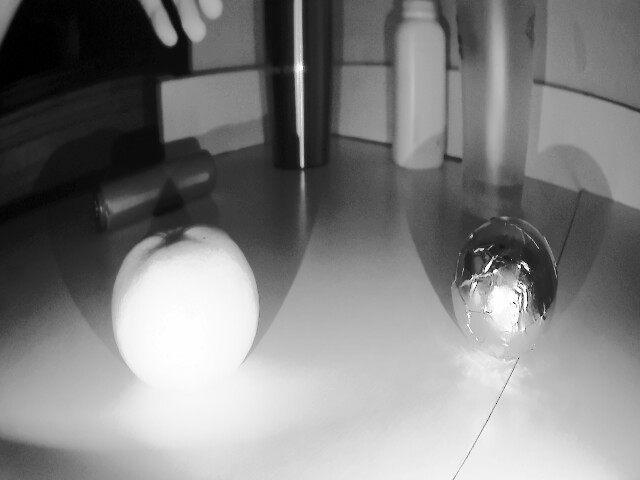silver: (448, 201, 548, 368)
